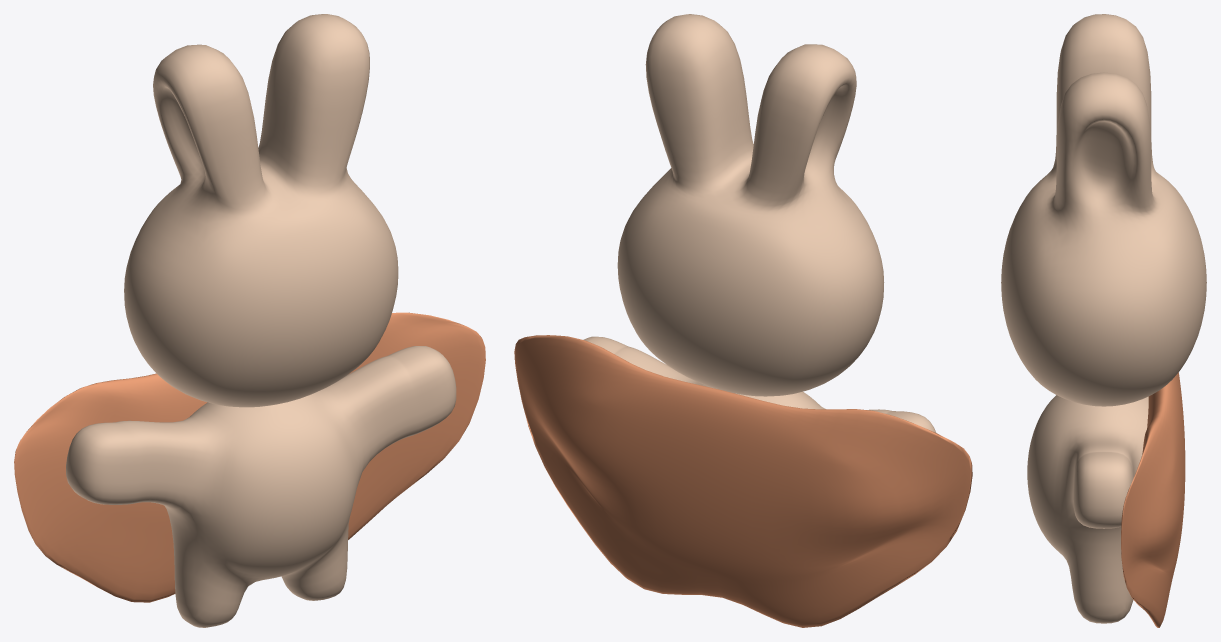
File: momonga_4.fbx
3 views of the same model, side by side, from view 1: azimuth 30°, elevation 25°; view 2: azimuth 150°, elevation 25°; view 3: azimuth 270°, elevation 25° (orthographic). The views are drawn at different scales.
Visible parts, largest first — view 1: Cube, Cube.001, 立方体; view 2: 立方体, Cube, Cube.001; view 3: Cube, Cube.001, 立方体.
Part boxes in pixels (x1,y1,x2,y2): Cube: (124,14,398,407); Cube.001: (66,346,456,627); 立方体: (14,312,485,602); 立方体: (514,335,972,627); Cube: (617,14,884,396); Cube.001: (583,336,936,432); Cube: (1001,14,1206,406); Cube.001: (1027,395,1148,623); 立方体: (1121,372,1185,627).
Bounding box in the file's own units: 122 × 105 × 41.7.
